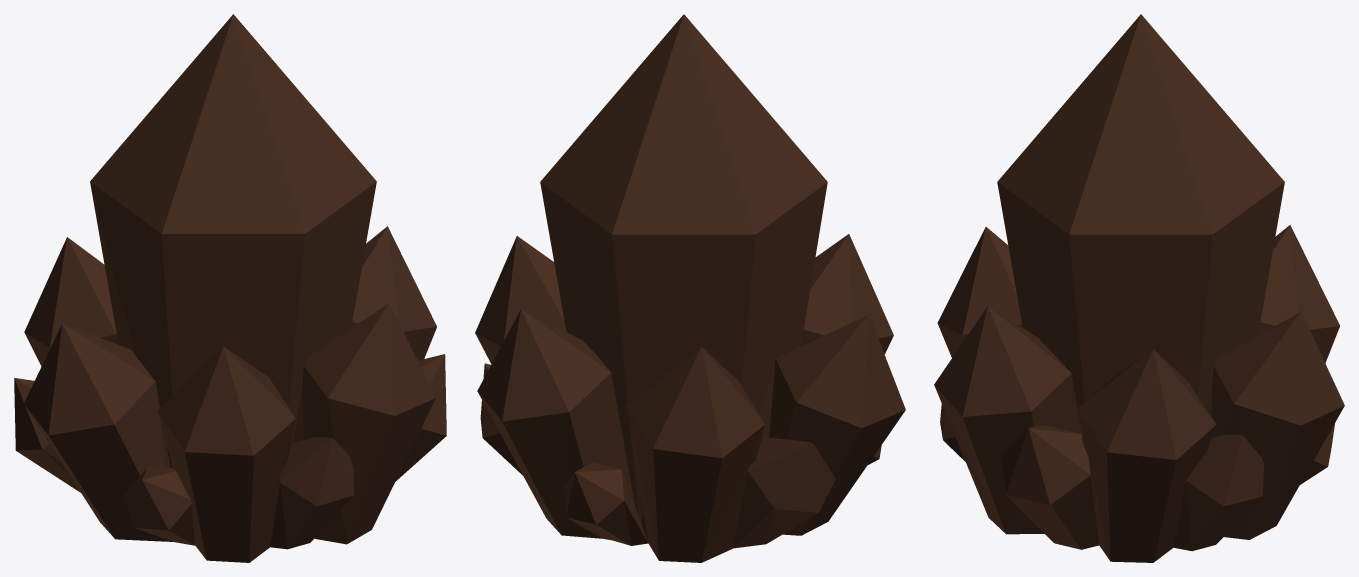
File: crystal_brown.obj
3 renders of one model, left to right at view 1: azimuth 30°, elevation 25°; view 2: azimuth 150°, elevation 25°; view 3: azimuth 270°, elevation 25°, orthographic.
Visible parts, largest first — view 1: Crystal_Cube; view 2: Crystal_Cube; view 3: Crystal_Cube.
Boxes of the visible parts, x1,y1,x2,y2 form: Crystal_Cube: (14,14,446,562); Crystal_Cube: (475,14,905,562); Crystal_Cube: (934,14,1344,562).
Bounding box in the file's own units: 0.8345 × 0.9795 × 0.7515.
